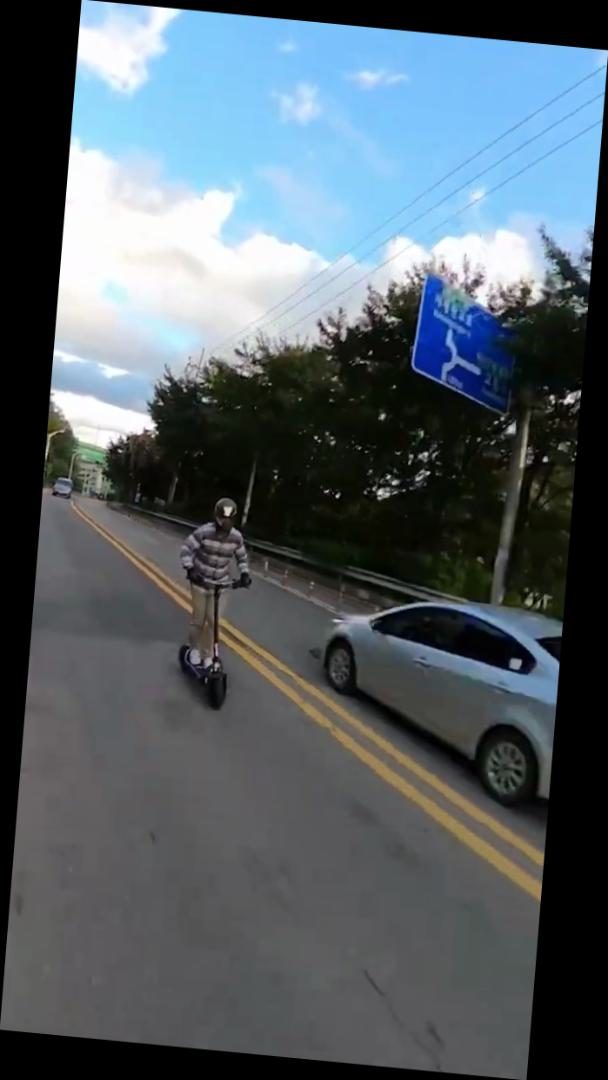helmet: (166, 489, 263, 717)
